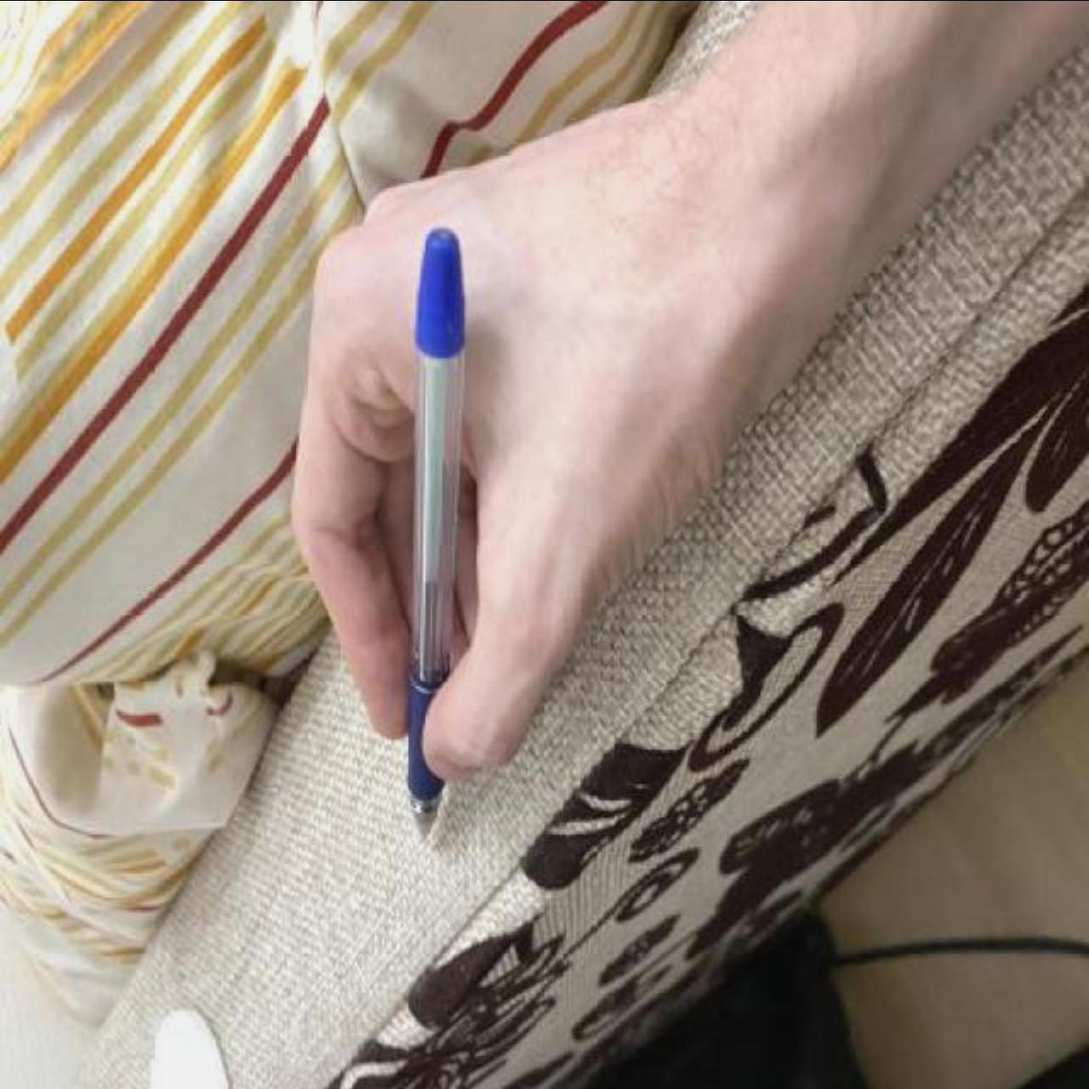pen: (405, 230, 468, 844)
